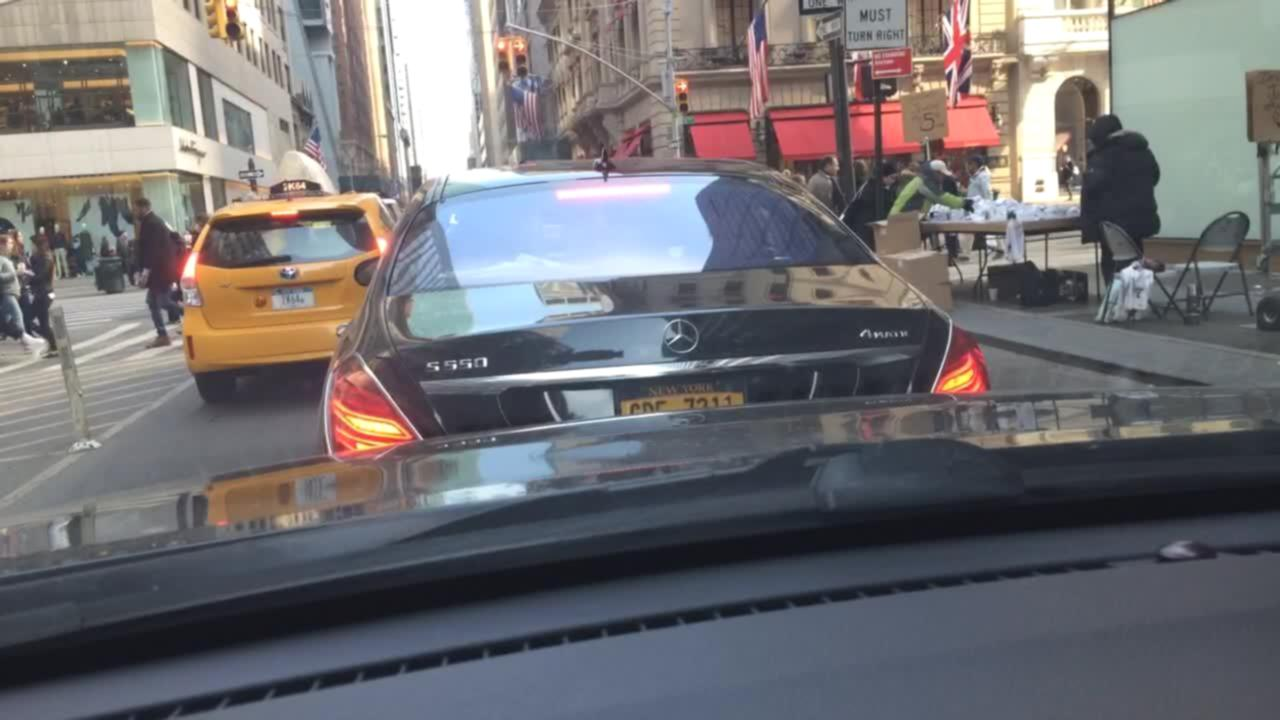Mercedes: (651, 312, 701, 364)
Toyota: (271, 258, 308, 288)
